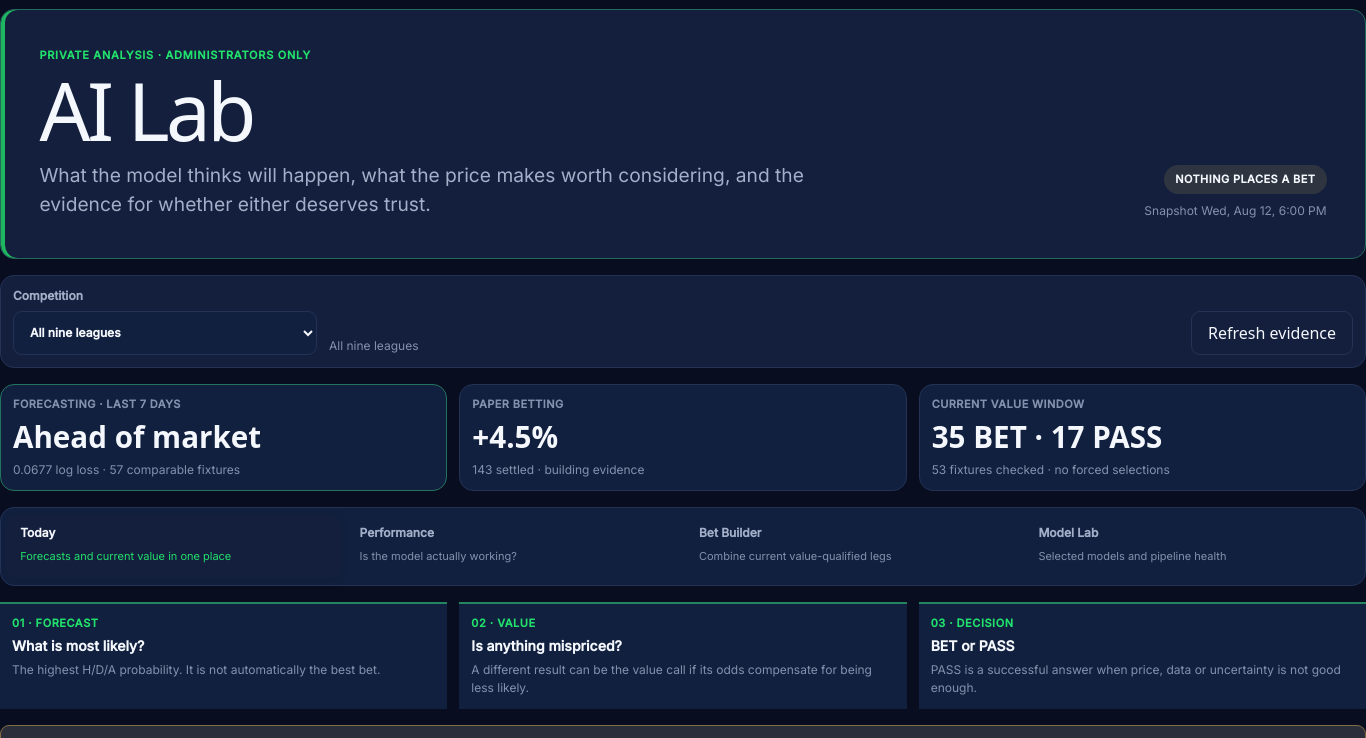
Test: AI Lab comparable market evidence › reads the other way round when the model wins the same window
The width and height of the screenshot is (1366, 738).
Click the button "Performance Is the model actually working?": (513, 547) [347,515,680,579]
(page scrolled)
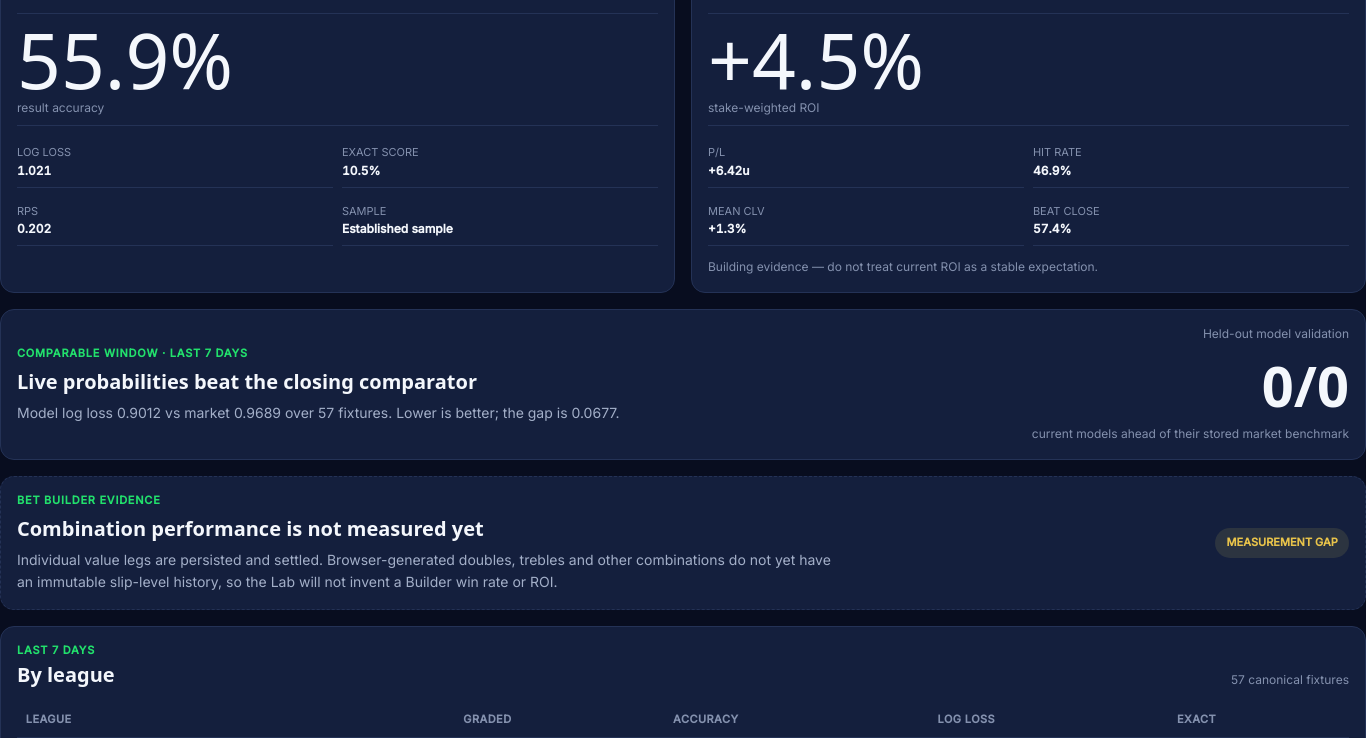
Now the heading "Live probabilities beat the closing comparator" is shown, box [17,368,477,395]
